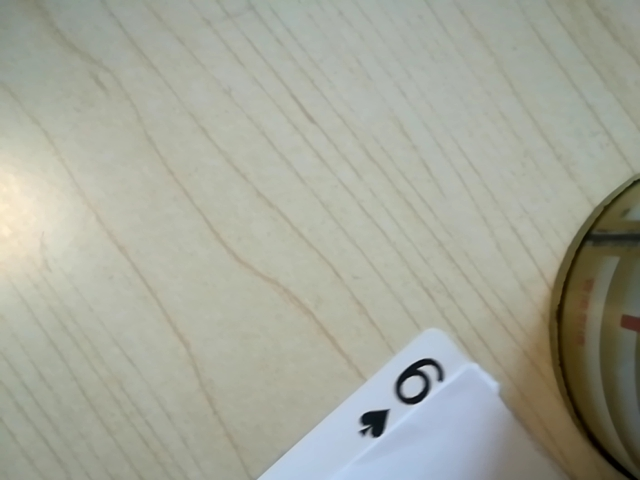ht 6: (345, 347, 469, 453)
